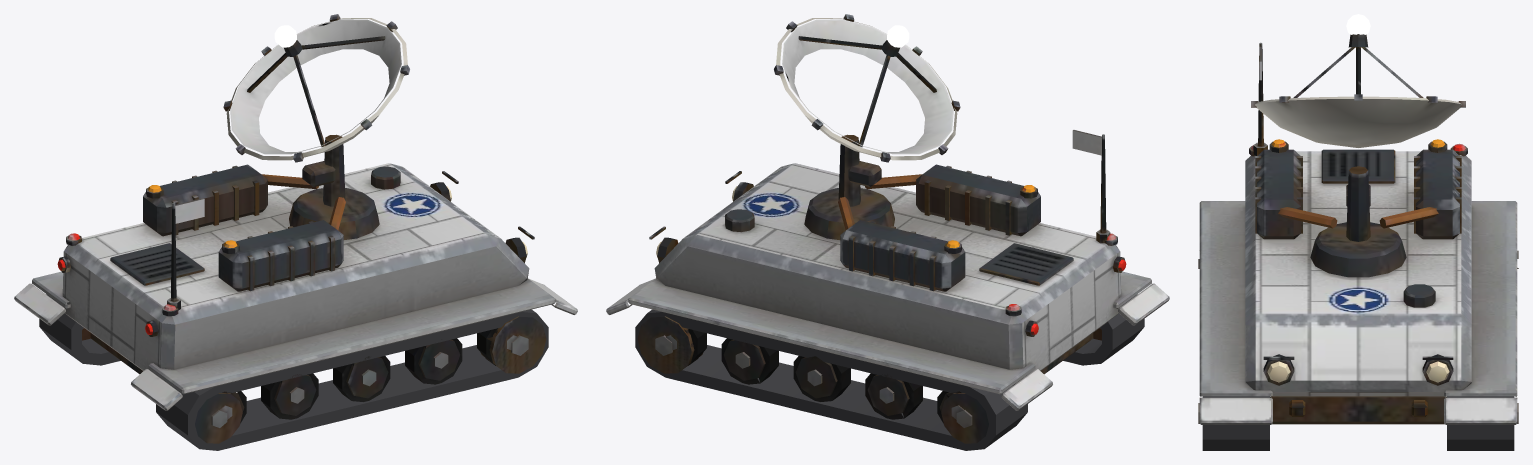
The model's file is mgg.allies.glb.
3 renders of one model, left to right at view 1: azimuth 30°, elevation 25°; view 2: azimuth 150°, elevation 25°; view 3: azimuth 270°, elevation 25°, orthographic. The views are drawn at different scales.
Parts seen in each view (by area): view 1: root_mesh, _d_mesh, dish_mesh; view 2: root_mesh, _d_mesh, dish_mesh; view 3: root_mesh, _d_mesh, dish_mesh.
Boxes of the visible parts, x1=… form: root_mesh: x1=14, y1=163, x2=577, y2=450; _d_mesh: x1=223, y1=14, x2=409, y2=162; dish_mesh: x1=302, y1=134, x2=345, y2=206; root_mesh: x1=606, y1=130, x2=1169, y2=450; _d_mesh: x1=774, y1=14, x2=960, y2=162; dish_mesh: x1=838, y1=134, x2=881, y2=206; root_mesh: x1=1198, y1=42, x2=1518, y2=450; _d_mesh: x1=1251, y1=14, x2=1465, y2=147; dish_mesh: x1=1346, y1=166, x2=1370, y2=241.
Bounding box in the file's own units: 0.8193 × 0.6353 × 0.524.
Materials: 3 (1 with a texture image).
